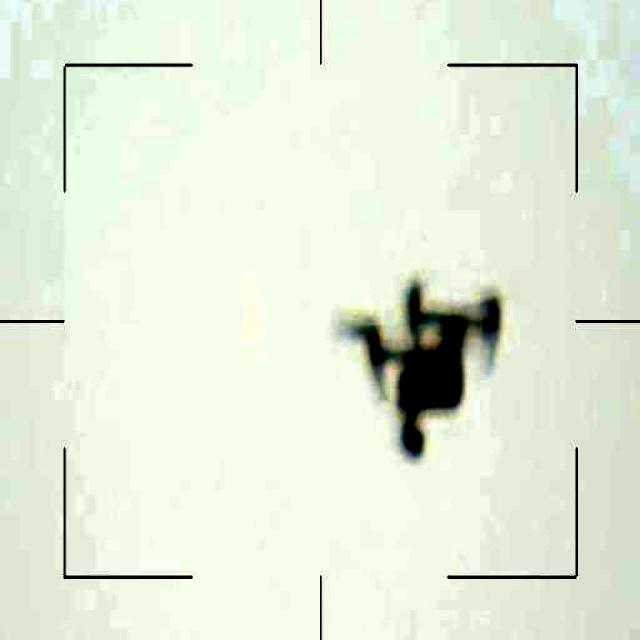bird: (321, 271, 496, 449)
